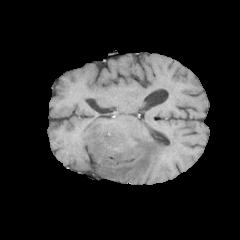glioma: (61, 123, 182, 181)
